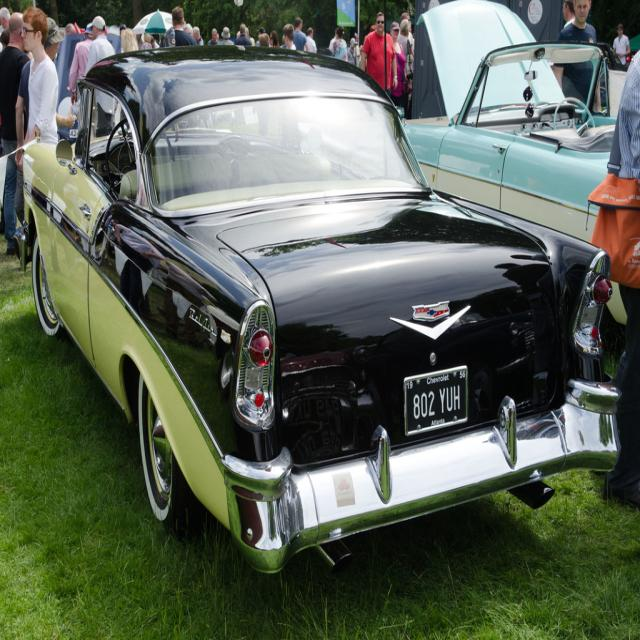car: (18, 43, 621, 575)
